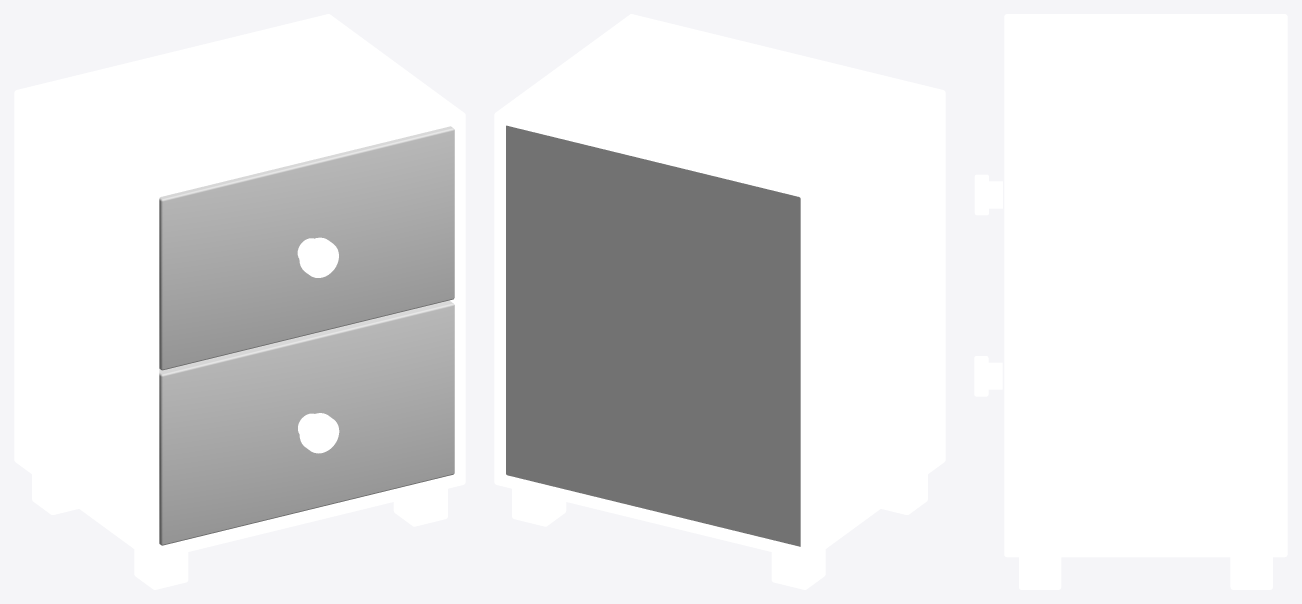
Rendered from 9c5678e3-ba8f-4ebc-88c1-2f464400abeb.glb.
The picture shows the model from 3 angles, left to right: view 1: azimuth 30°, elevation 25°; view 2: azimuth 150°, elevation 25°; view 3: azimuth 270°, elevation 25°; orthographic projection. The views are drawn at different scales.
Parts seen in each view (by area): view 1: Back, Body, Base; view 2: Body, Back, Base; view 3: Body, Base.
Boxes of the visible parts, x1=… form: Back: x1=159, y1=126, x2=454, y2=545; Body: x1=14, y1=14, x2=465, y2=560; Base: x1=32, y1=113, x2=465, y2=589; Body: x1=494, y1=14, x2=945, y2=560; Back: x1=506, y1=125, x2=800, y2=546; Base: x1=512, y1=474, x2=927, y2=589; Body: x1=974, y1=14, x2=1287, y2=557; Base: x1=974, y1=15, x2=1272, y2=589.
Size of the model in its own units: 0.4 by 0.4945 by 0.3316.
3 materials, 2 textured.
